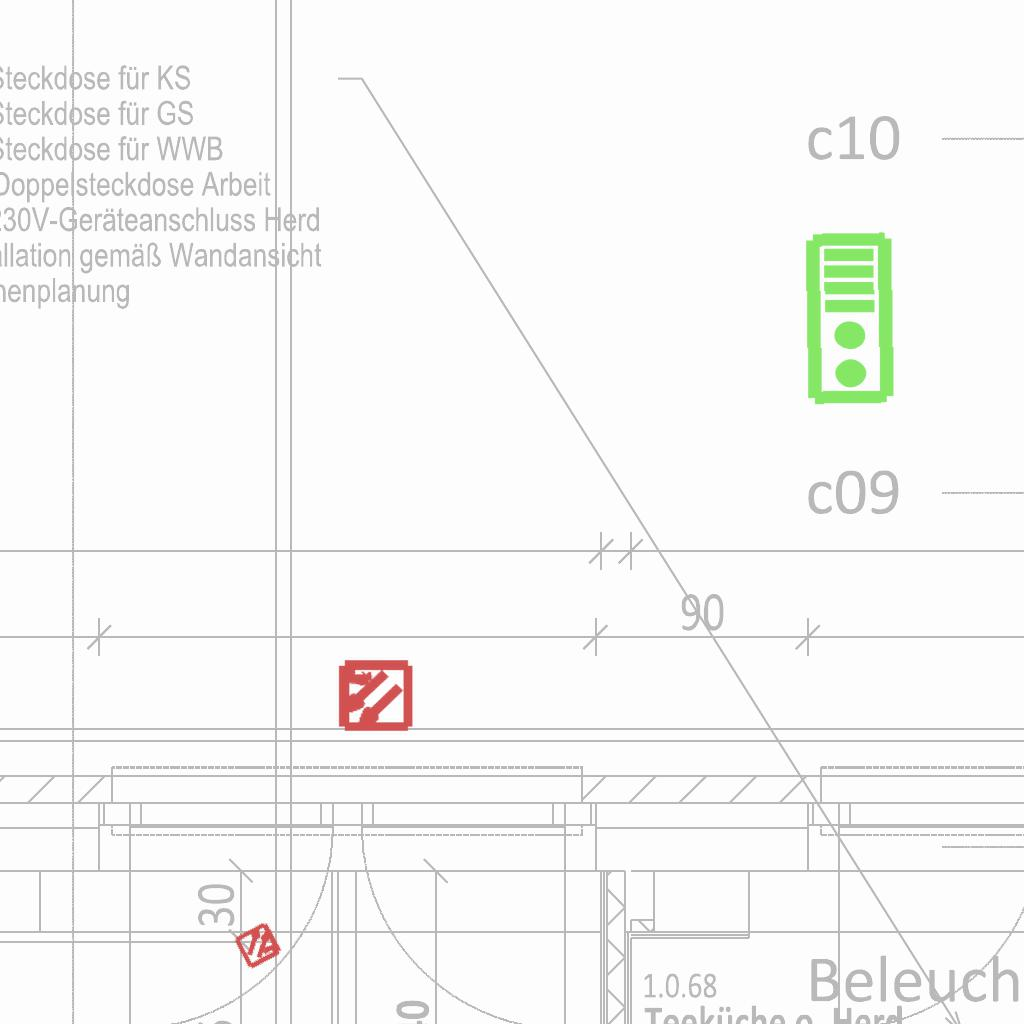Gegensprechanlage_mit_Video: (802, 230, 901, 408)
OT_Multisensormelder_(Kombination_RMO_WMD): (317, 639, 430, 752), (221, 907, 297, 983)
